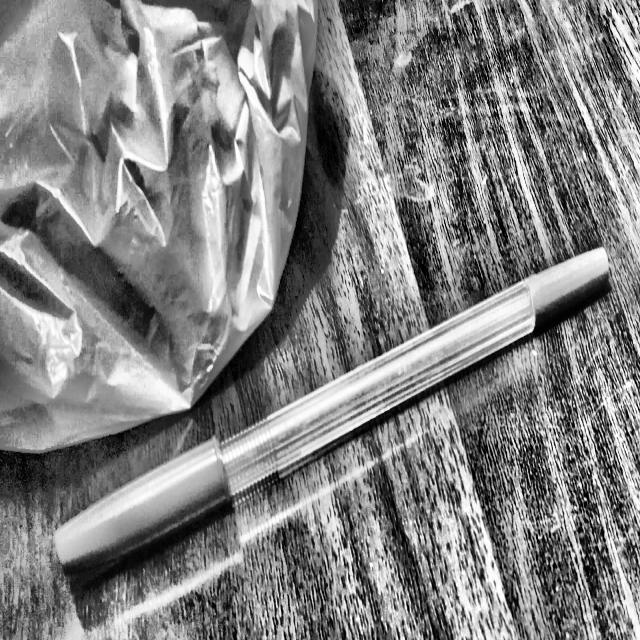Pen: (14, 185, 619, 585)
